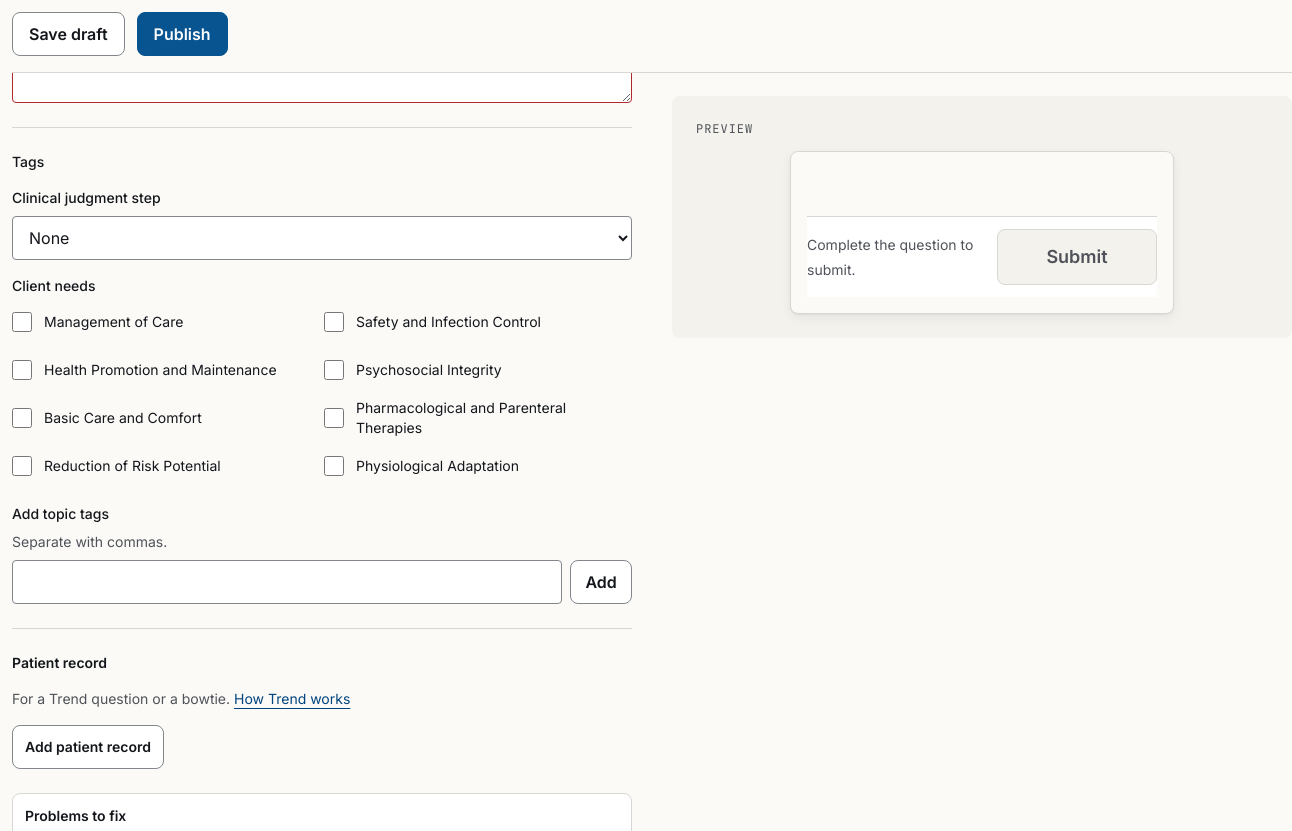
Test: tags in every item editor › saves tags and the step with the draft, and marks them unsaved until then
The image size is (1292, 831).
(page scrolled)
Click the checkbox labelled "Physiological Adaptation" at (334, 466), box [324,456,344,476]
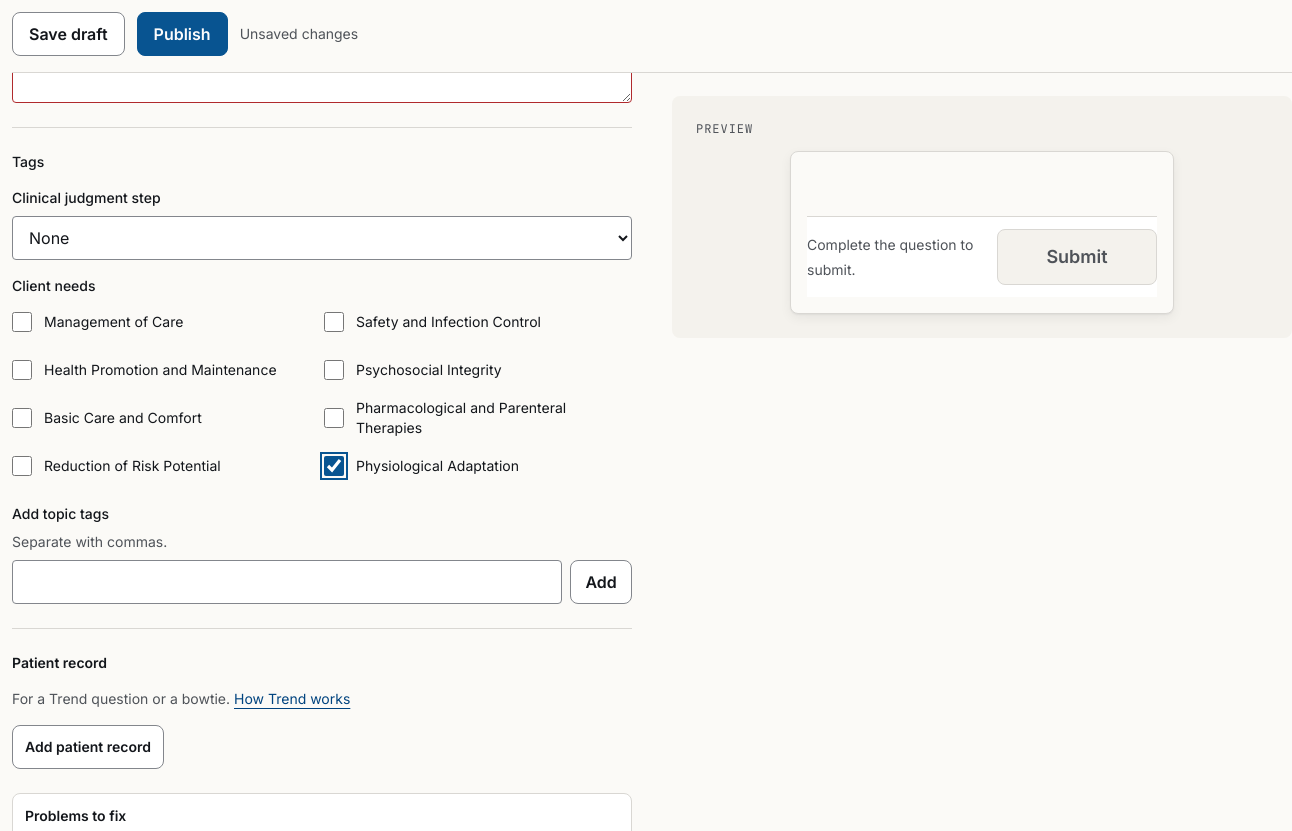
Type "Sepsis" into the field labelled "Add topic tags" at (287, 582), box [12,560,562,604]
Then press Enter
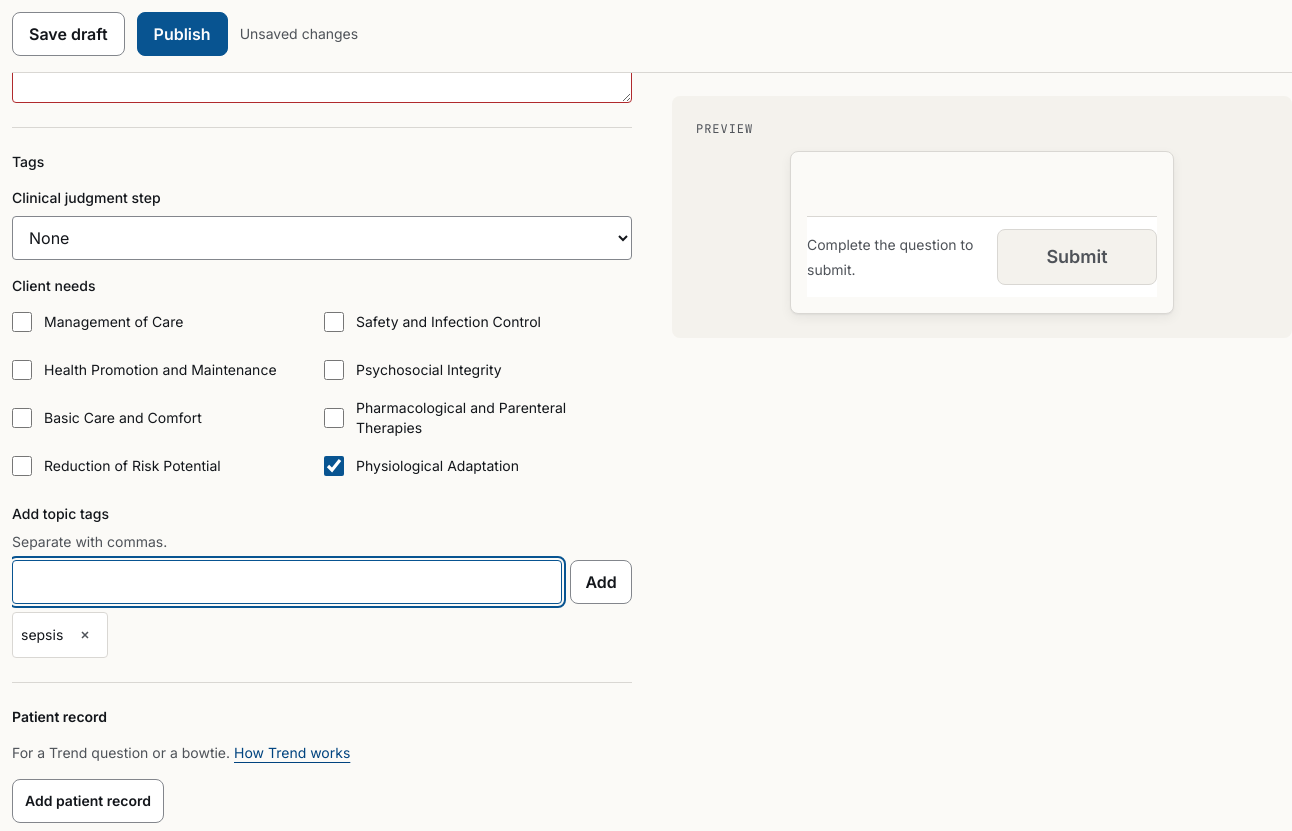
Select "Step 1: Recognize Cues" in the dropdown labelled "Clinical judgment step" at (322, 238), box [12,216,632,260]
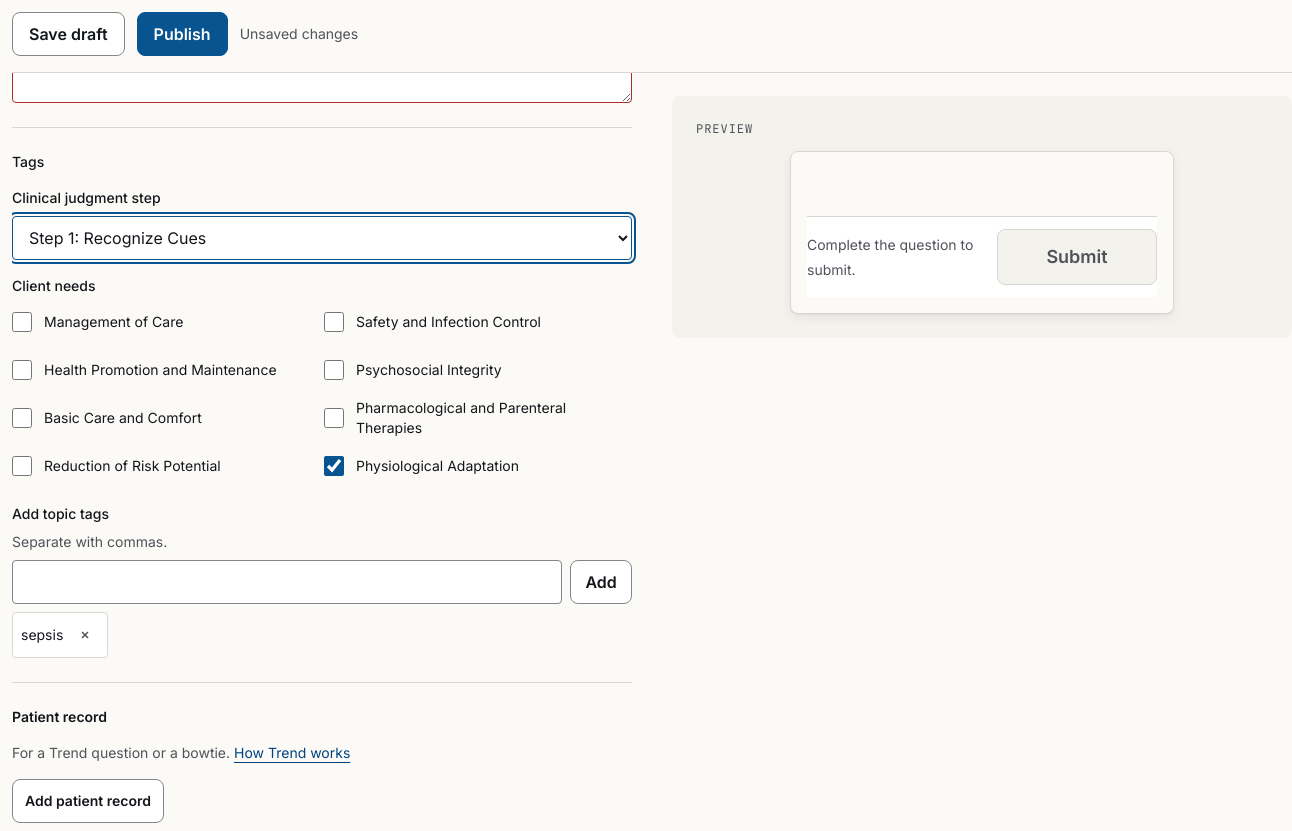
expect the text "Unsaved changes" is shown: met, box [240,24,358,44]
Click the button "Save draft" at (68, 34), box [12,12,125,56]
(page scrolled)
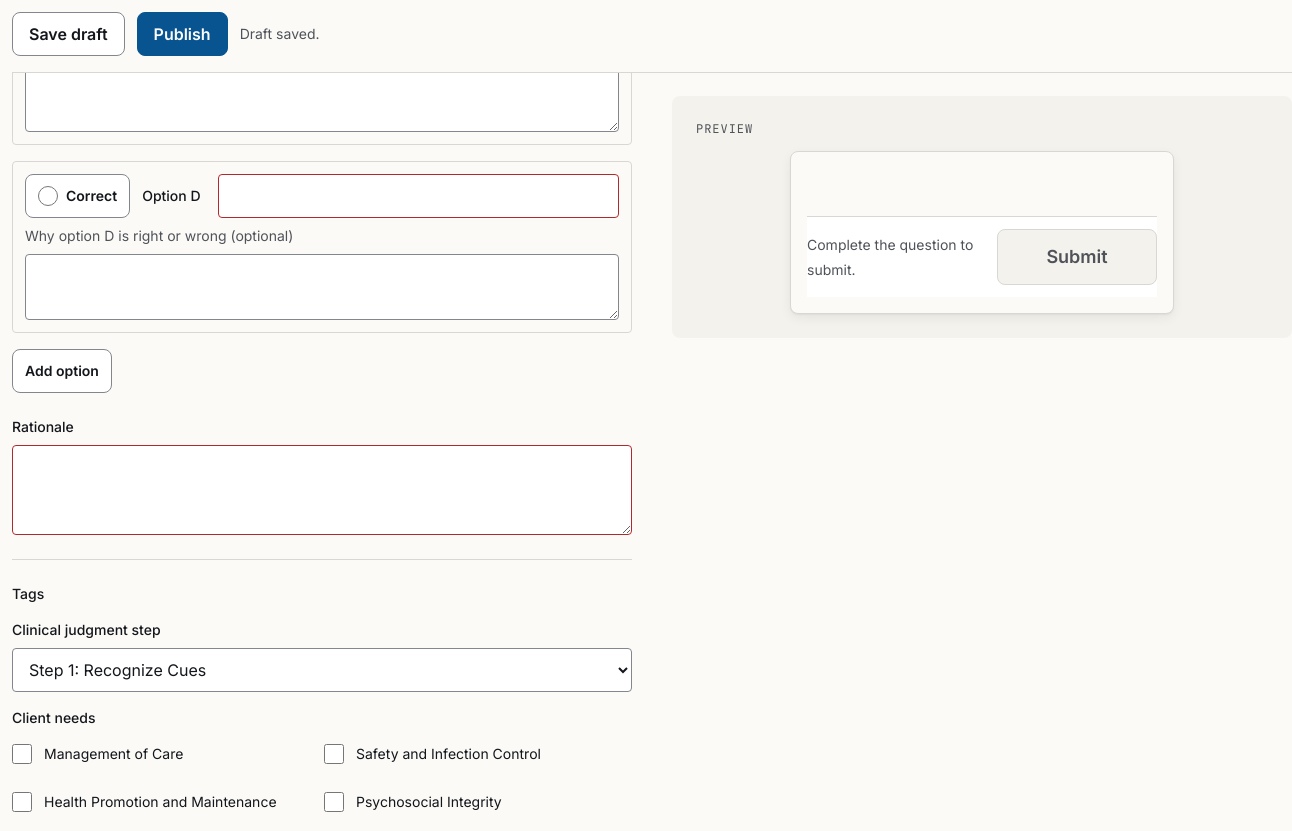
expect the text "Unsaved changes" is gone: met
